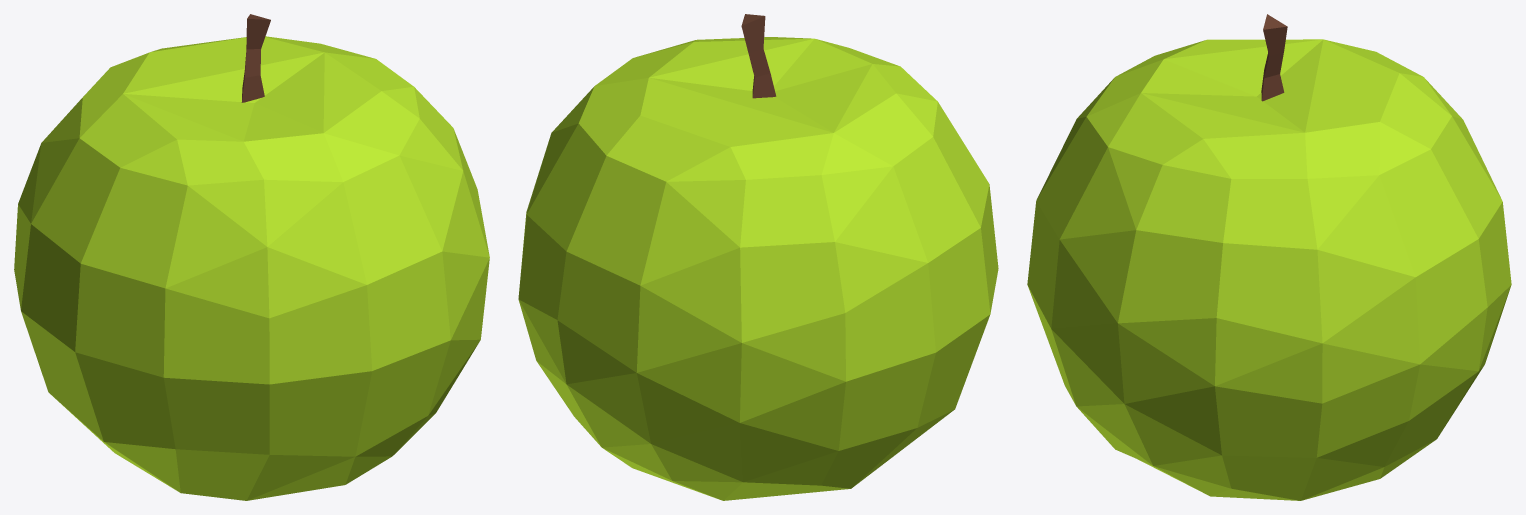
The model's file is GreenApple.glb.
The picture shows the model from 3 angles, left to right: view 1: azimuth 30°, elevation 25°; view 2: azimuth 150°, elevation 25°; view 3: azimuth 270°, elevation 25°; orthographic projection.
Visible parts, largest first — view 1: Apple; view 2: Apple; view 3: Apple.
Boxes of the visible parts, box(x1,y1,x2,y2) form: Apple: box(14, 14, 489, 500); Apple: box(518, 14, 998, 500); Apple: box(1027, 14, 1511, 500).
Bounding box in the file's own units: 28.72 × 28.7 × 29.44.
1 material, 1 textured.
